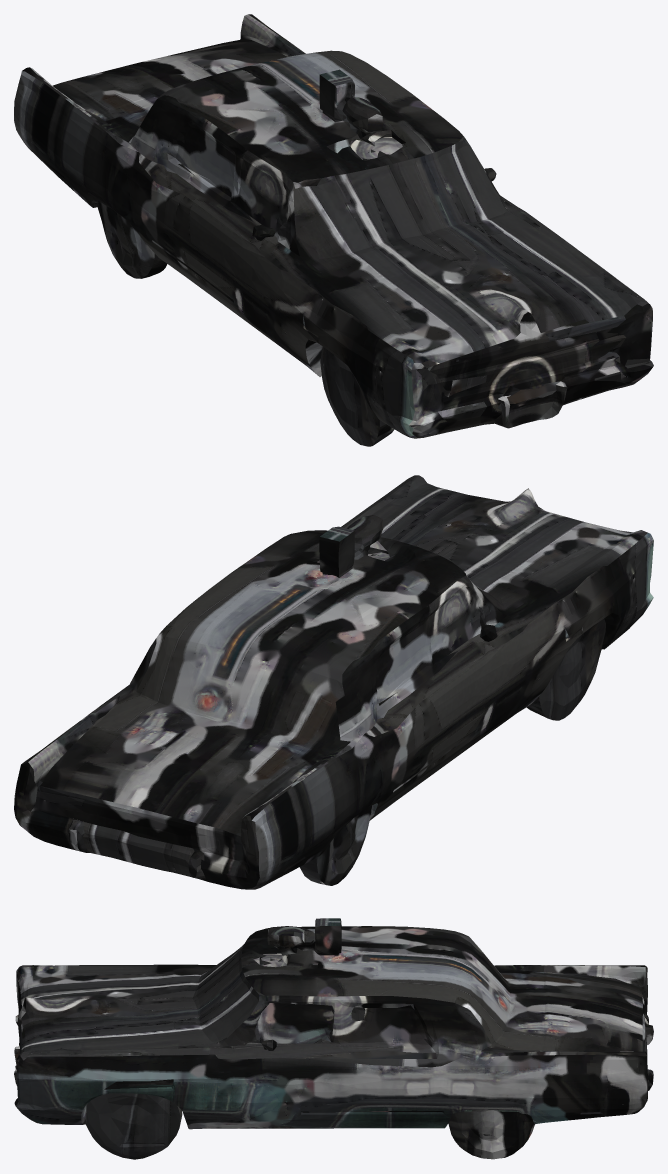
The model's file is vehicle_police_car_1960s_lod0.gltf.
3 renders of one model, top to bottom at view 1: azimuth 30°, elevation 25°; view 2: azimuth 150°, elevation 25°; view 3: azimuth 270°, elevation 25°, orthographic. The views are drawn at different scales.
Visible parts, largest first — view 1: world; view 2: world; view 3: world.
Part boxes in pixels (x1,y1,x2,y2): world: (14, 14, 653, 446); world: (14, 475, 653, 889); world: (14, 918, 653, 1159).
Bounding box in the file's own units: 0.3804 × 0.3398 × 1.
Materials: 1 (1 with a texture image).
